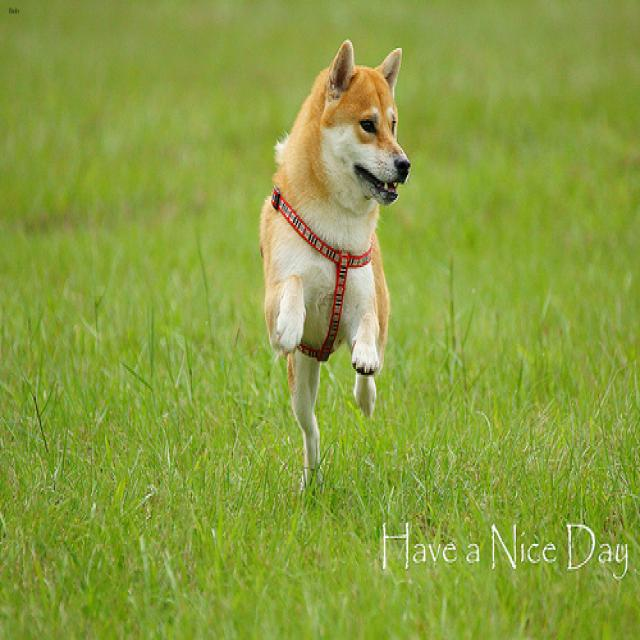dog-shiba_inu: (255, 31, 413, 494)
